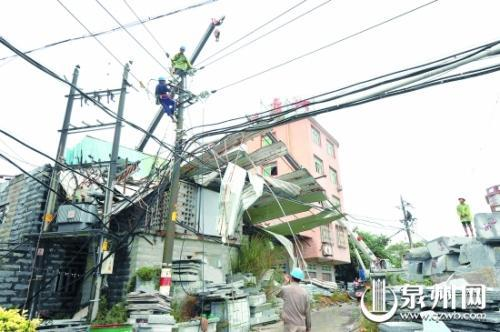helmet: (289, 266, 304, 288)
